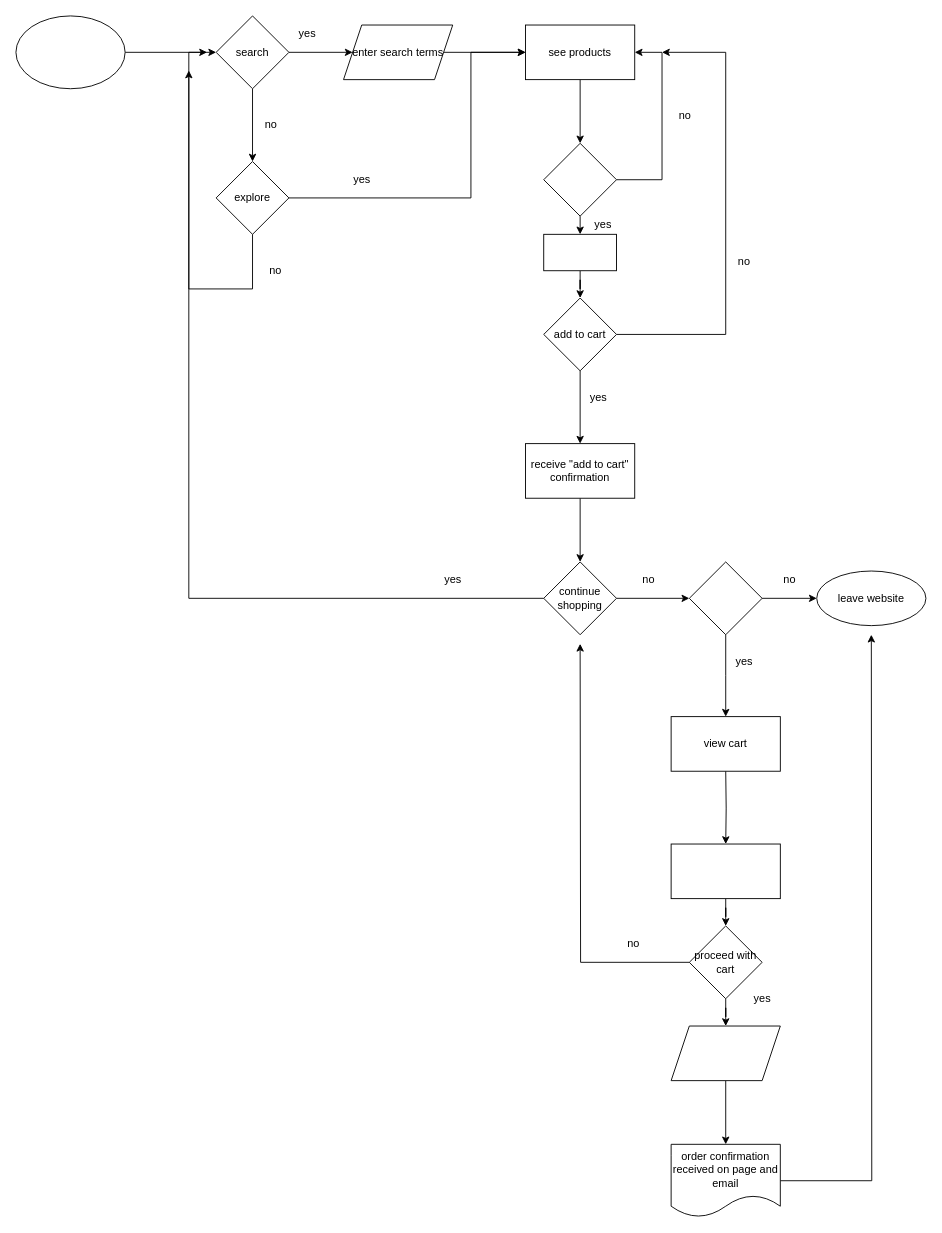
Some shapes in this 942 by 1233 pixel diagram are drawn without their labels. Each missing label, with the centre of its shape:
arrived at home/start page: (x=70, y=52)
checkout: (x=725, y=598)
click specific product: (x=580, y=179)
enter payment information: (x=725, y=1053)
see product webpage: (x=580, y=252)
view payment page: (x=725, y=871)
